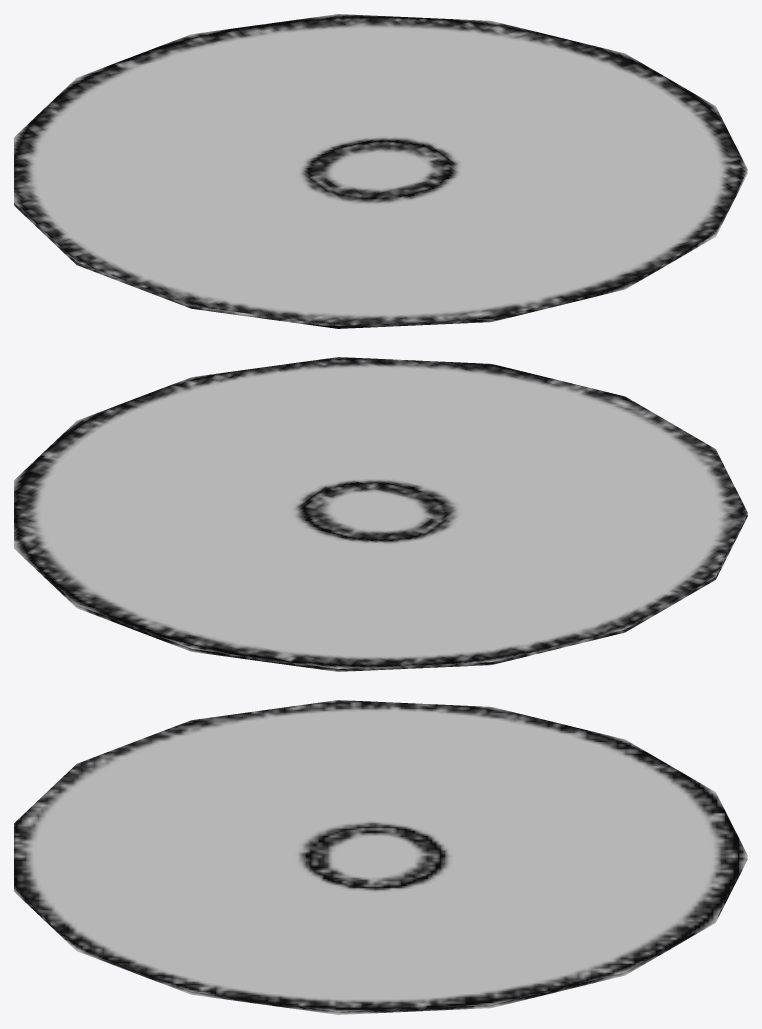
Rendered from dvd.obj.
3 views of the same model, one above another, from view 1: azimuth 30°, elevation 25°; view 2: azimuth 150°, elevation 25°; view 3: azimuth 270°, elevation 25° (orthographic).
Parts seen in each view (by area): view 1: dvd; view 2: dvd; view 3: dvd.
Part boxes in pixels (left/top/right/bottom): dvd: left=14, top=14, right=747, bottom=328; dvd: left=14, top=357, right=747, bottom=671; dvd: left=14, top=700, right=747, bottom=1014.
Size of the model in its own units: 0.5166 by 0.00229 by 0.5138.
